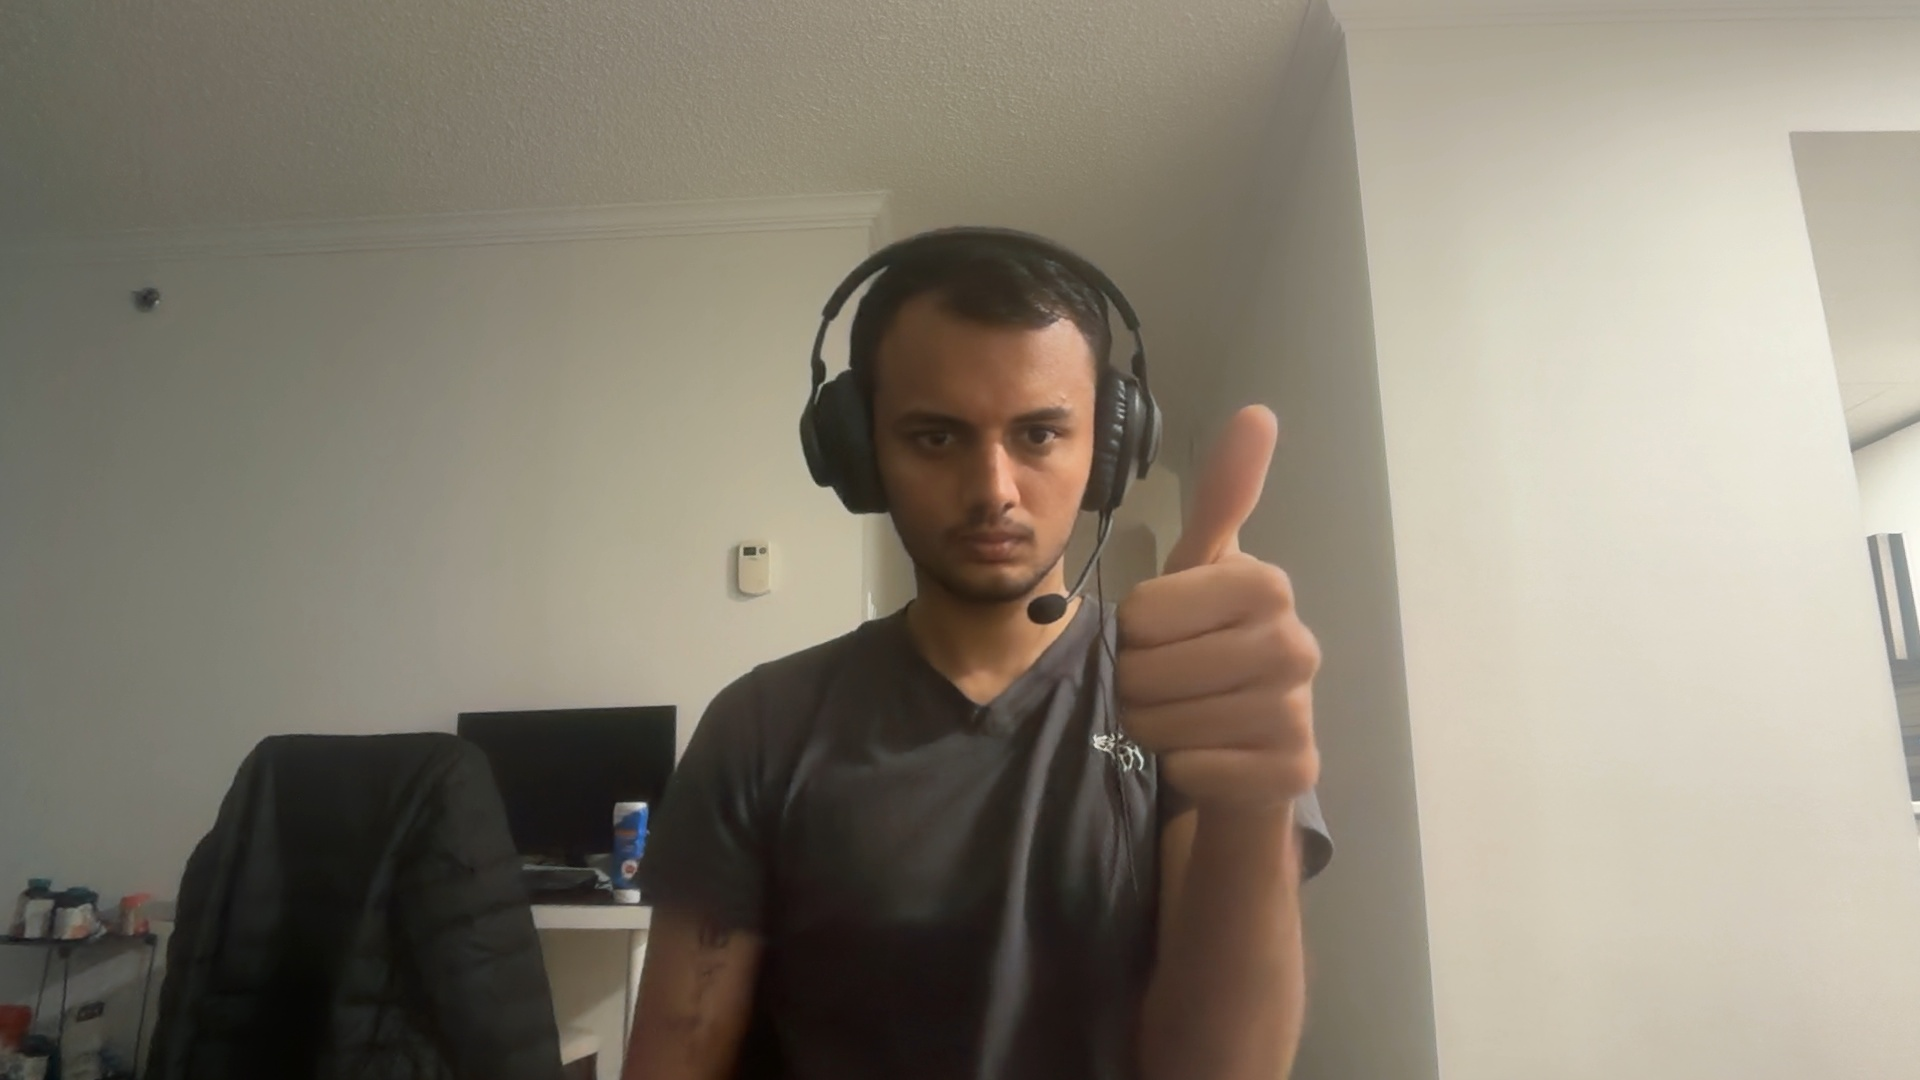thumbsup: (1116, 406, 1324, 806)
